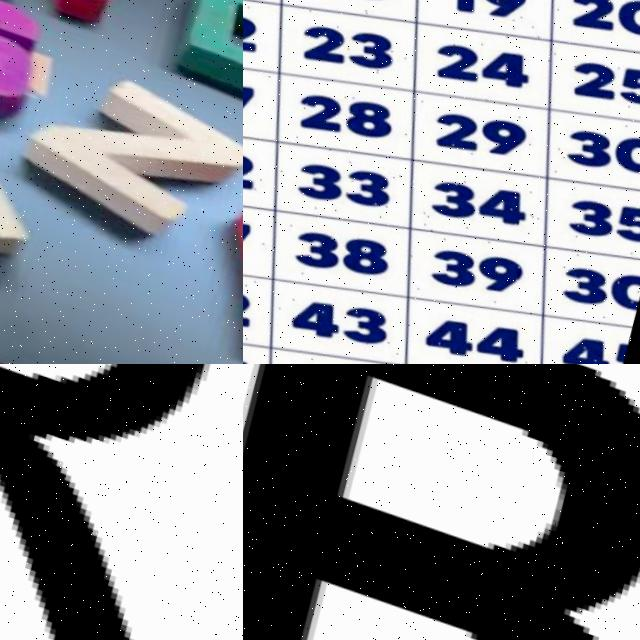0: (596, 106, 640, 179), (594, 244, 640, 309), (607, 0, 640, 40)
1: (429, 0, 484, 14)
2: (419, 88, 487, 157), (558, 37, 625, 104), (285, 71, 350, 139), (423, 22, 489, 87), (292, 8, 354, 71), (558, 0, 624, 30), (243, 0, 269, 62), (243, 267, 259, 337), (243, 134, 260, 198)
3: (273, 208, 348, 281), (328, 283, 399, 355), (333, 147, 402, 217), (554, 173, 624, 242), (414, 157, 483, 225), (339, 11, 406, 78), (553, 104, 620, 171), (549, 242, 617, 308), (286, 145, 350, 209), (418, 227, 482, 291)
4: (465, 23, 544, 98), (467, 158, 543, 232), (464, 295, 542, 364), (412, 293, 479, 361), (281, 281, 345, 345), (546, 310, 615, 364), (276, 348, 344, 364), (406, 361, 482, 364)
5: (599, 176, 640, 244), (605, 40, 640, 109), (598, 314, 628, 364)
7: (243, 200, 266, 271), (243, 62, 267, 129), (243, 337, 259, 364)
8: (326, 217, 399, 284), (333, 80, 403, 147), (329, 351, 397, 364)
9: (462, 232, 536, 300), (464, 96, 537, 162), (471, 0, 536, 22)
B: (243, 364, 640, 640)
D: (178, 0, 243, 106)
E: (200, 172, 243, 364)
R: (0, 364, 243, 640)
Z: (12, 46, 243, 264)
